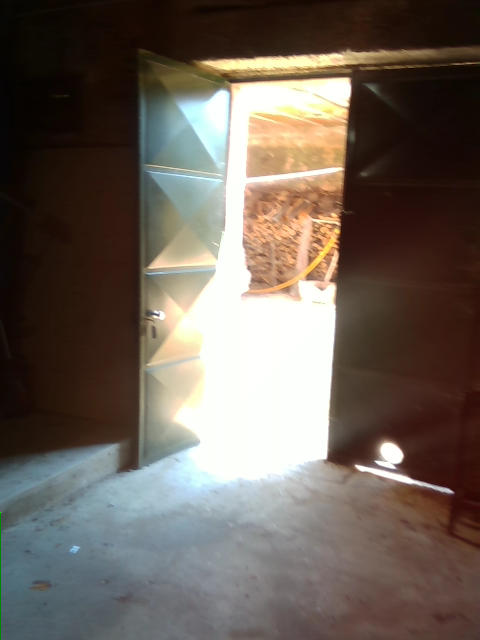open: (131, 38, 479, 530)
